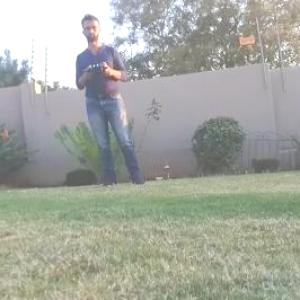follow: (72, 6, 154, 190)
